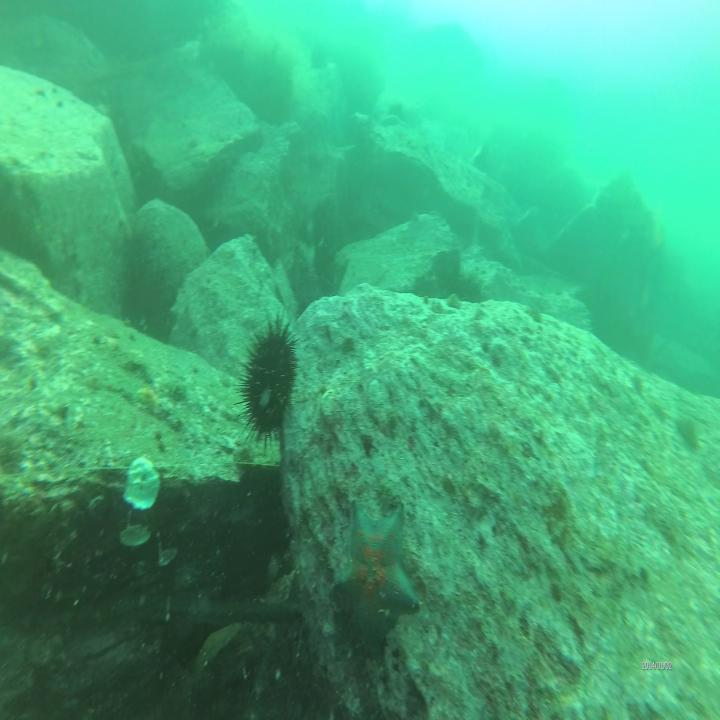echinus: (232, 315, 300, 437)
starfish: (330, 500, 422, 667)
